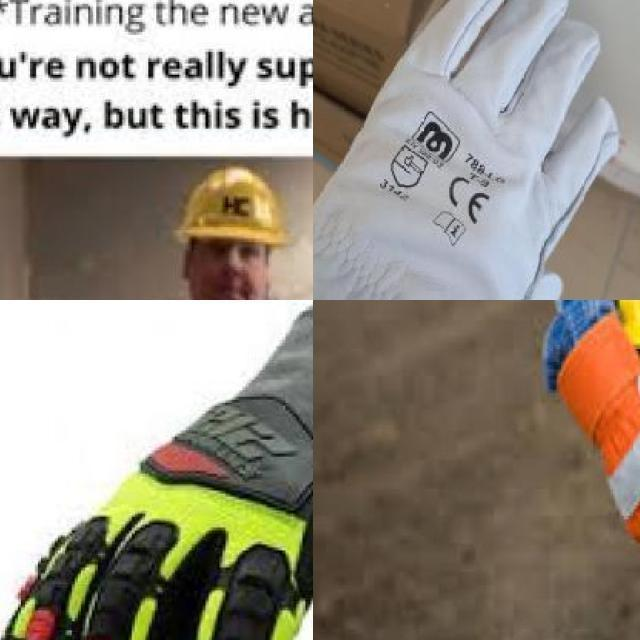apron: (0, 300, 313, 640), (323, 0, 640, 300), (553, 321, 640, 585)
